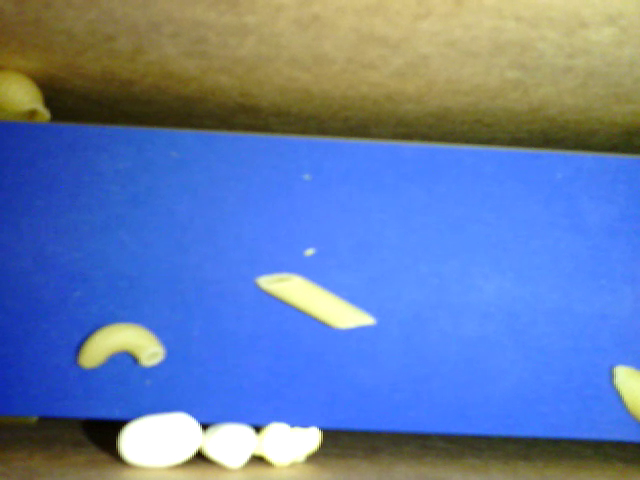elbow: (73, 325, 169, 372)
penne: (256, 267, 381, 332)
shell: (3, 68, 54, 125)
